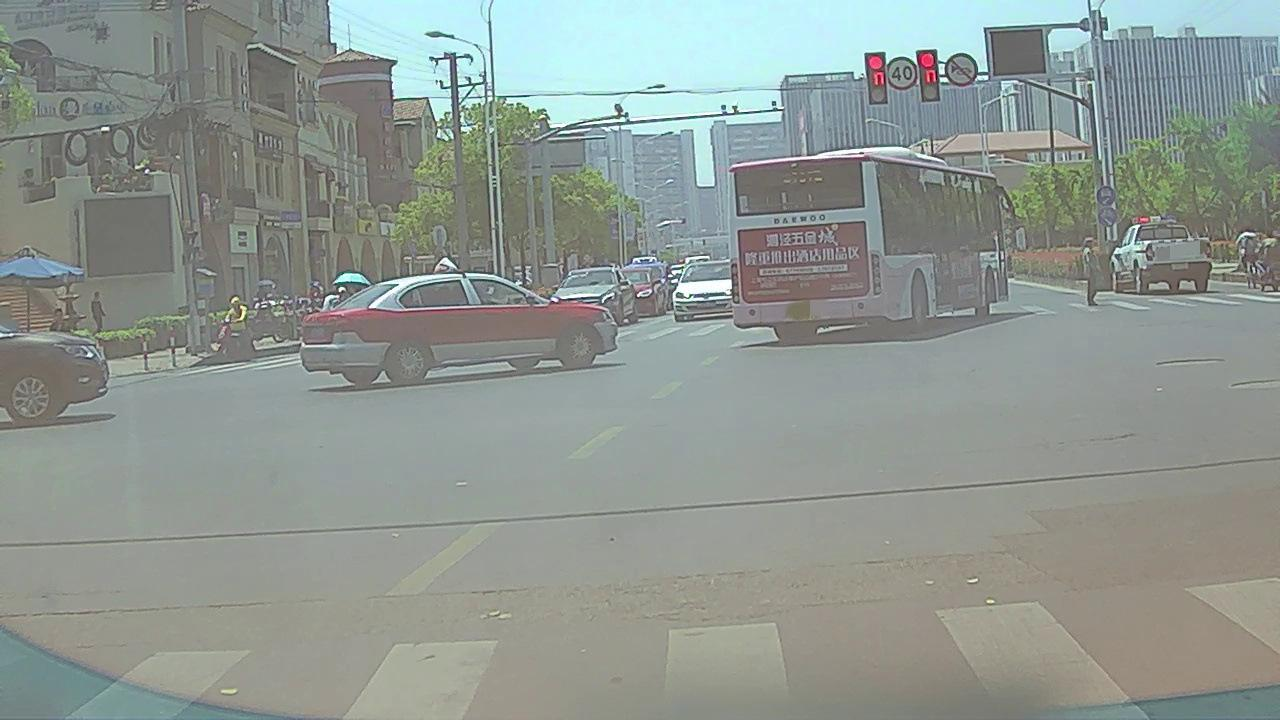traffic_light: (867, 53, 887, 102), (921, 50, 940, 100)
